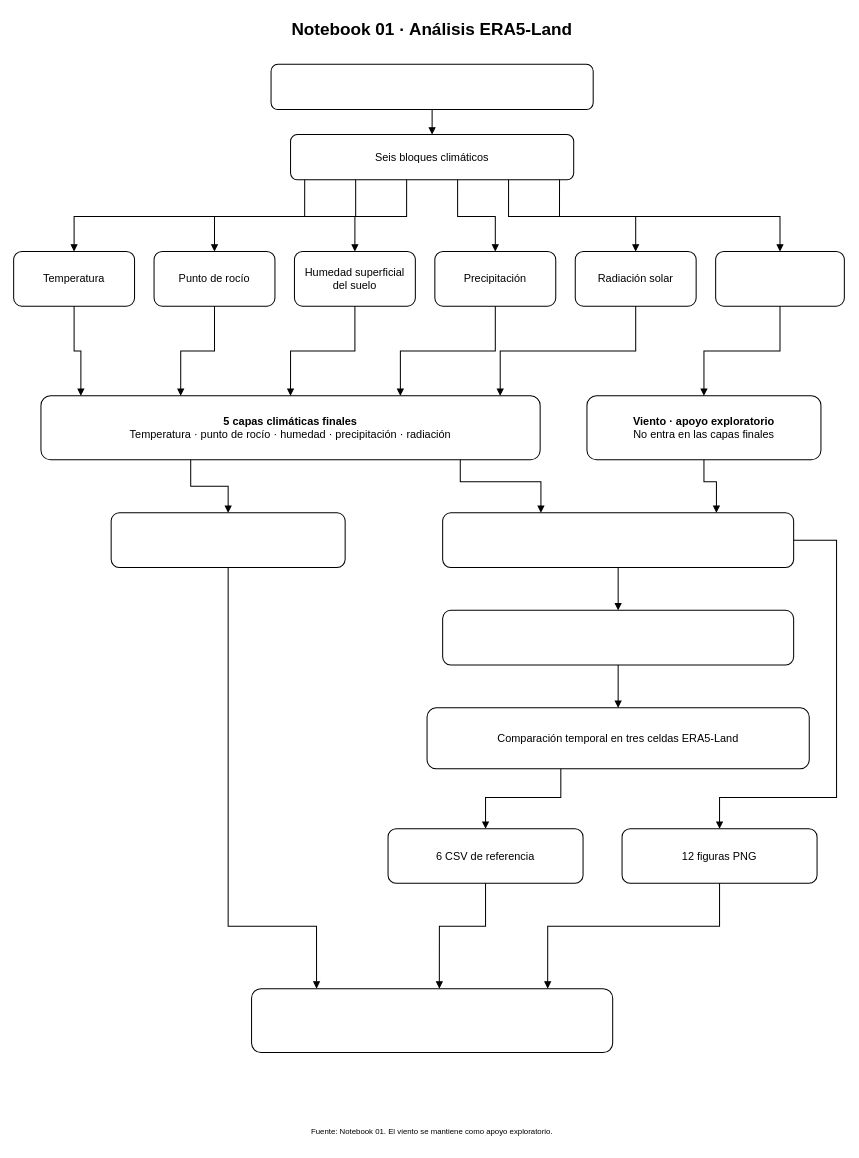
This 859x1158 diagram has some shape labels left out. The shapes that lost their labels are listed below. From the top down, each one's centre as x and y in pixels, then its label:
(431,86): ERA5-Land · 2024–2025
(780,278): Viento · exploratorio
(227,540): 5 NetCDF finales
(618,540): Mapas y series mensuales
(618,637): Madrid · Lisboa · Andorra la Vella
(432,1020): Paquete final 23 archivos · ZIP
